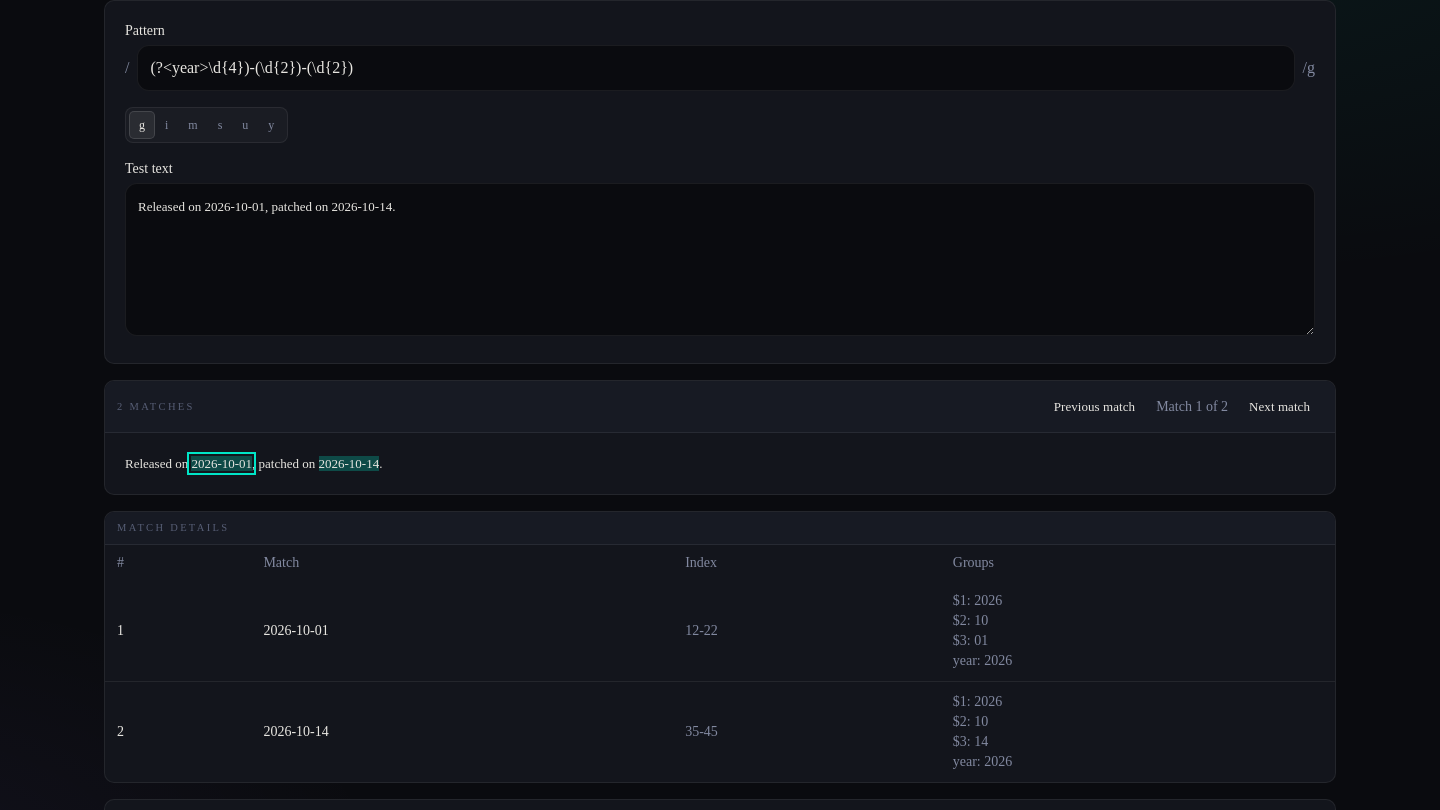
RegexTesterClient match navigation › disables navigation for empty pattern
Clear the field labelled "Pattern": (716, 68) [138, 45, 1295, 91]
Wait 150 ms
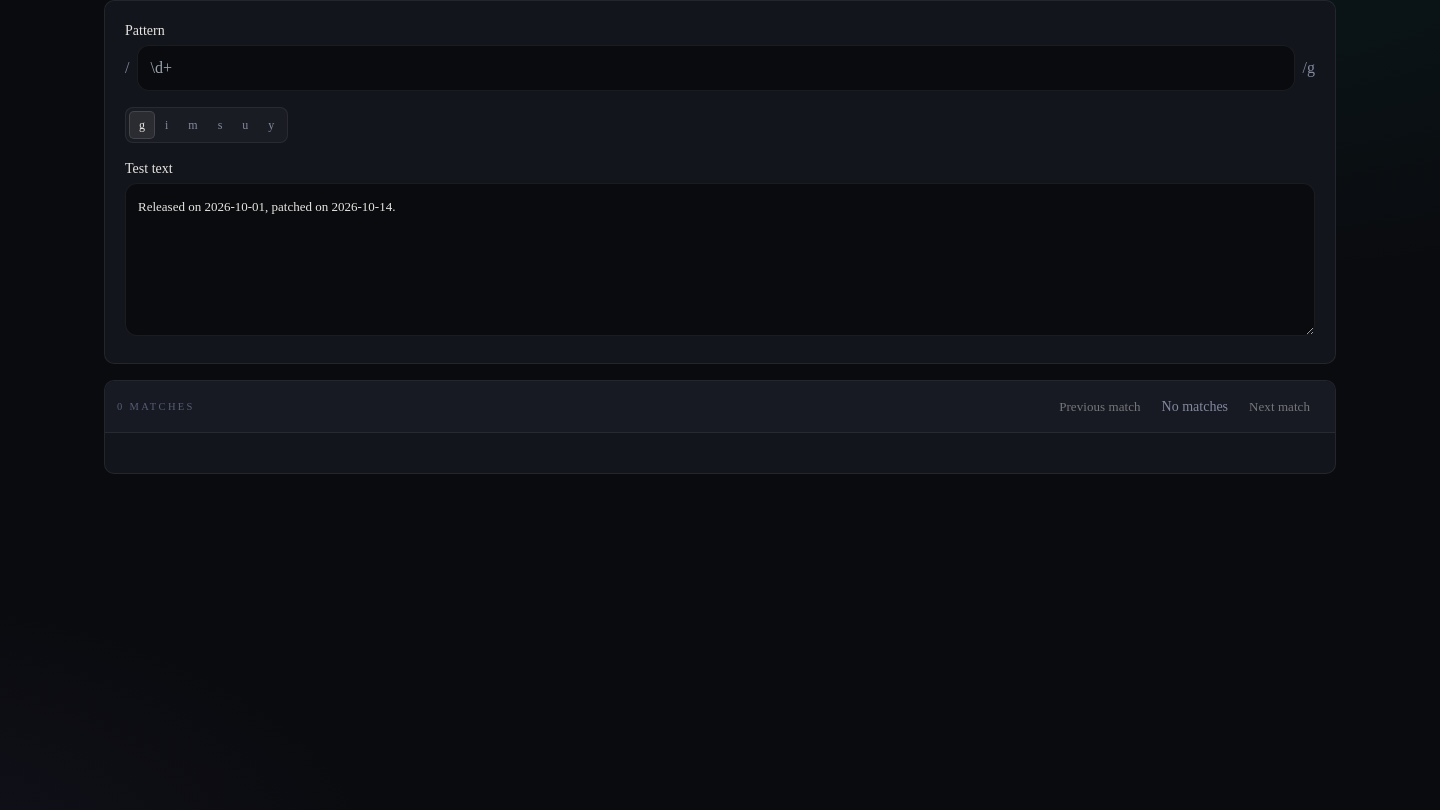
expect the button "Previous match" is disabled: met, box [1046, 389, 1154, 424]
expect the button "Next match" is disabled: met, box [1236, 389, 1323, 424]
expect the message named "Match navigation" reads "No matches": met, box [1162, 398, 1228, 414]
